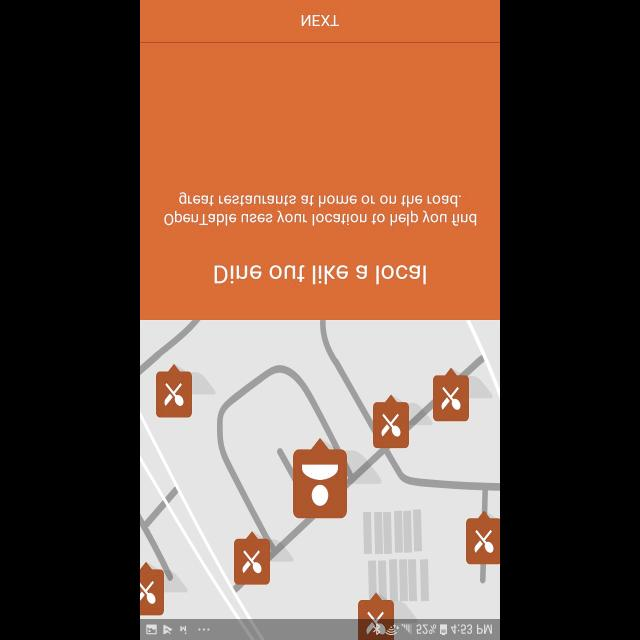image: (140, 320, 500, 618)
text: (164, 192, 476, 226), (214, 264, 426, 284)
textbutton: (140, 1, 500, 44)
uppertaskbar: (140, 618, 500, 640)
